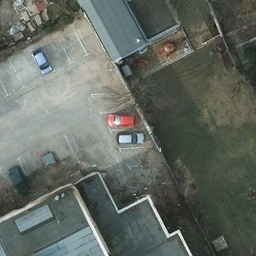car: (9, 165, 32, 198), (30, 46, 53, 77), (106, 112, 139, 128), (118, 132, 145, 146)
